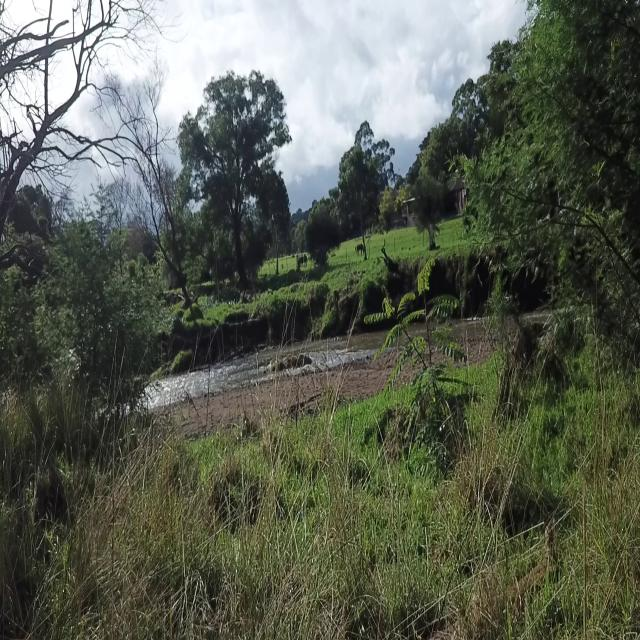Mysore-Thorn-Weed: (362, 252, 473, 463)
